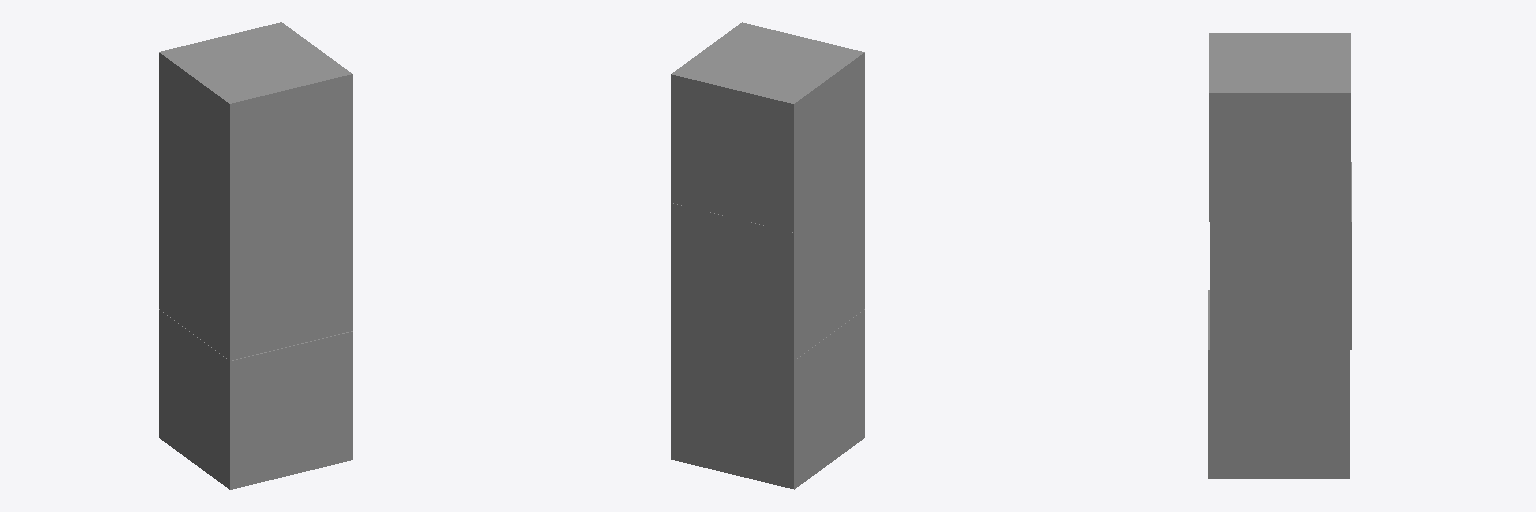
Rendered from house2.obj.
The picture shows the model from 3 angles: view 1: azimuth 30°, elevation 25°; view 2: azimuth 150°, elevation 25°; view 3: azimuth 270°, elevation 25°; orthographic projection.
Visible parts, largest first — view 1: Cube.002, Cube.001, Cube; view 2: Cube.002, Cube, Cube.001; view 3: Cube.002, Cube.001, Cube.
Part boxes in pixels (left/top/right/bottom): Cube.002: left=159, top=22, right=352, bottom=231; Cube.001: left=159, top=309, right=352, bottom=489; Cube: left=159, top=181, right=352, bottom=360; Cube.002: left=671, top=22, right=864, bottom=232; Cube: left=671, top=181, right=864, bottom=361; Cube.001: left=671, top=309, right=864, bottom=489; Cube.002: left=1209, top=33, right=1350, bottom=221; Cube.001: left=1208, top=290, right=1349, bottom=478; Cube: left=1210, top=162, right=1351, bottom=349.
Bounding box in the file's own units: 2 × 6 × 2.02.